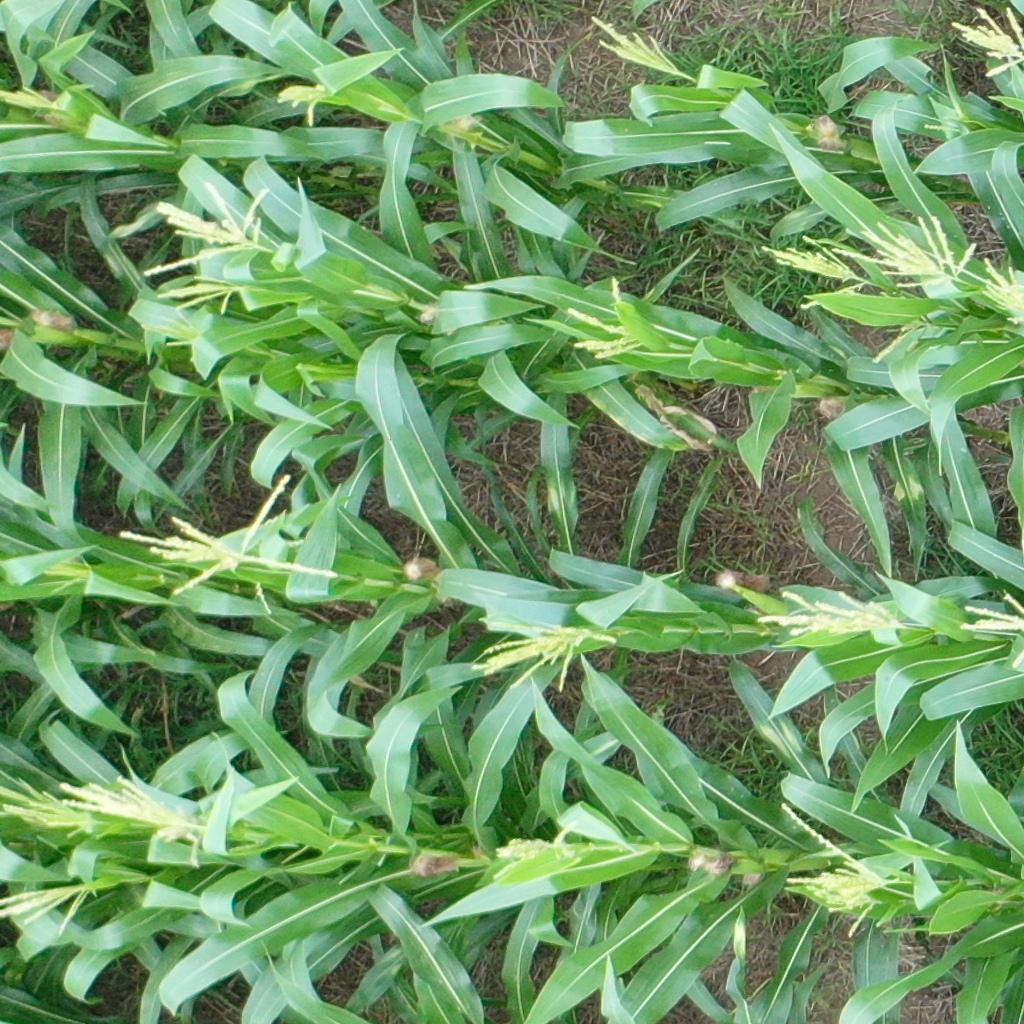Tassel: (118, 474, 342, 597), (776, 796, 906, 941), (62, 767, 213, 863), (474, 610, 617, 692), (140, 188, 269, 277), (833, 217, 975, 289), (756, 231, 866, 303), (756, 584, 904, 637), (570, 273, 654, 362), (489, 814, 588, 884), (591, 14, 688, 76), (955, 586, 1024, 669), (948, 2, 1024, 75), (1, 880, 92, 939), (1, 778, 92, 834), (156, 273, 241, 319), (870, 317, 939, 365), (984, 257, 1024, 317), (277, 82, 334, 124), (1, 81, 63, 112)
